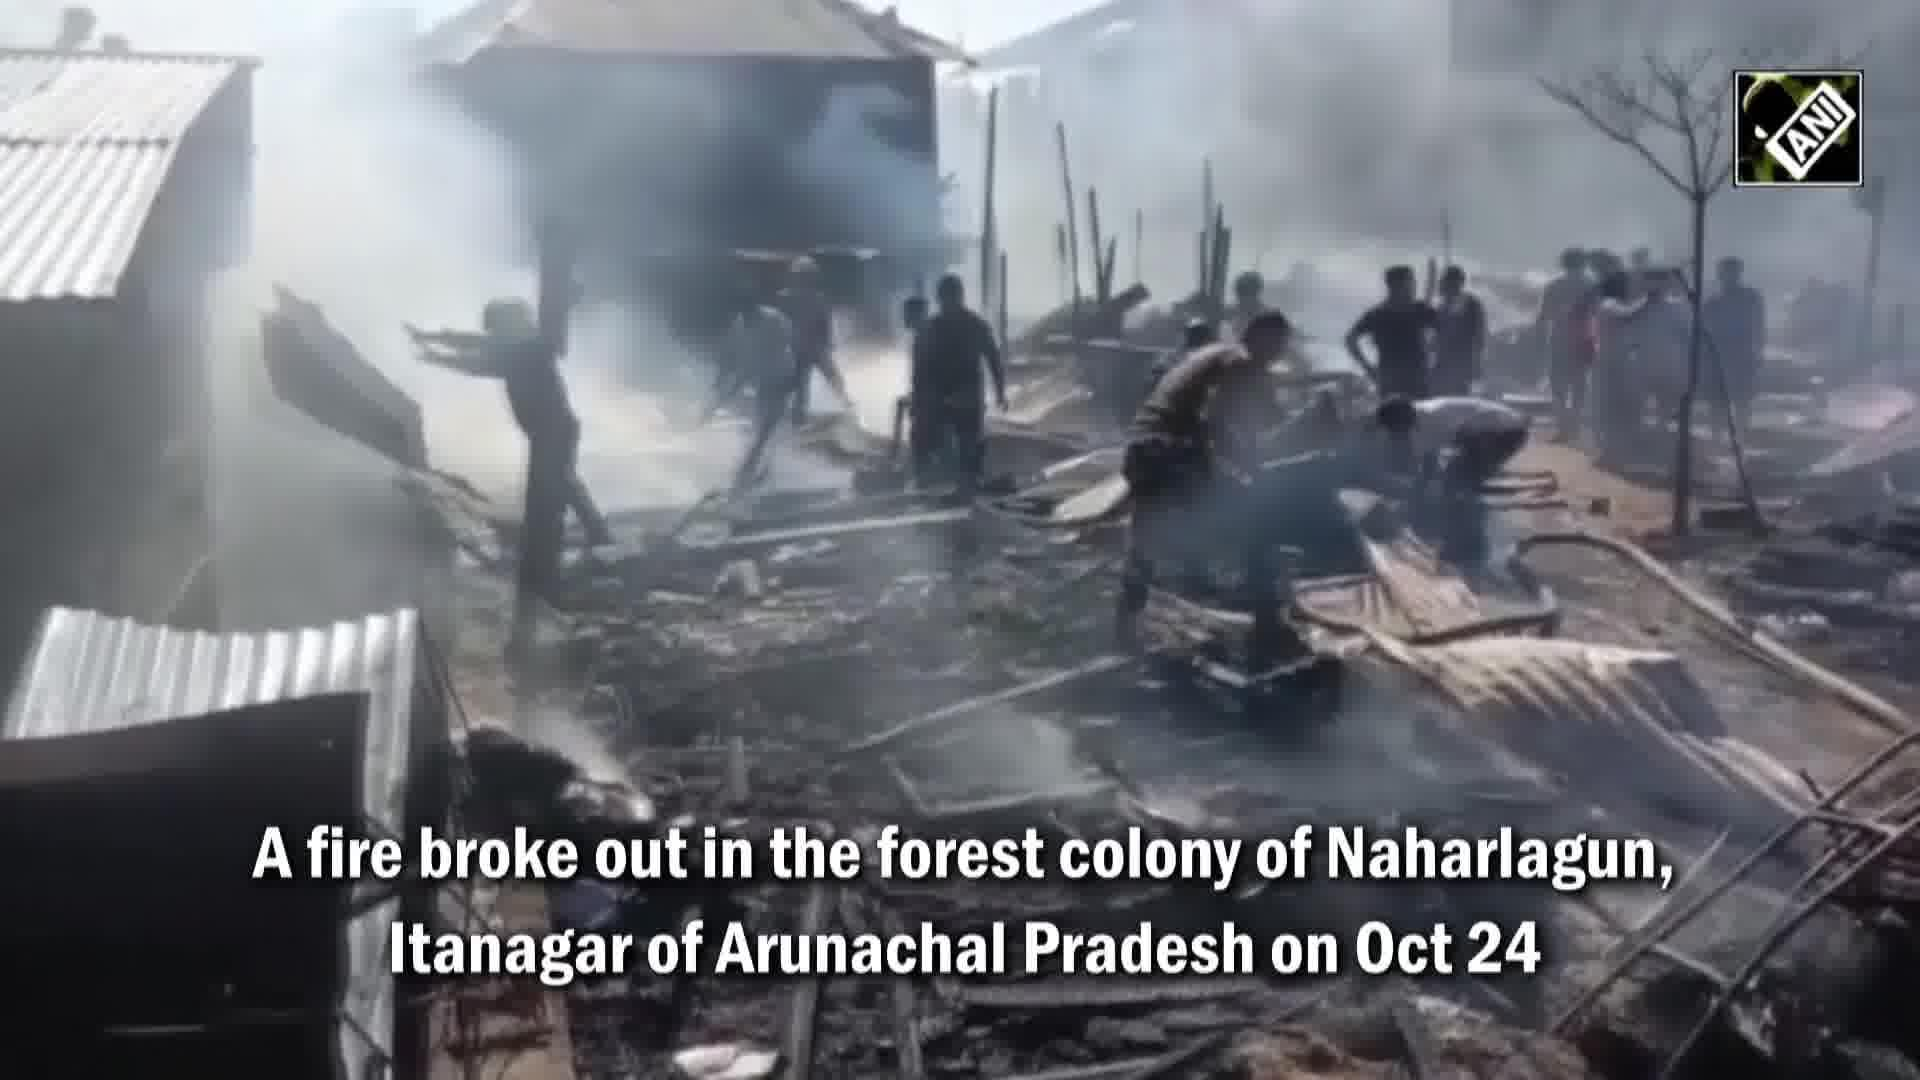smoke: (137, 3, 986, 516)
